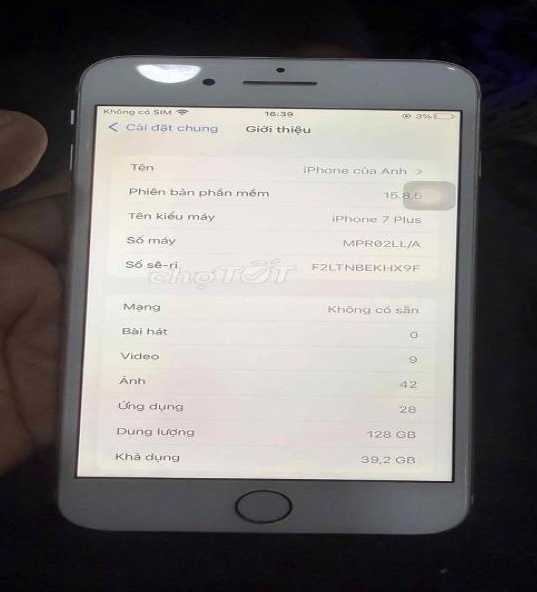screen_defect: (121, 61, 206, 87), (438, 63, 460, 74)
